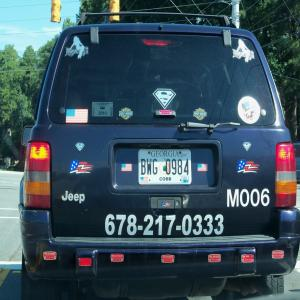Vehicle-registration-plate: (134, 148, 199, 194)
